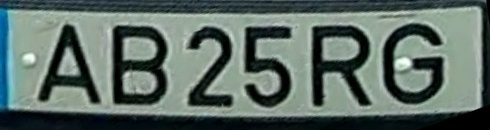2: (182, 23, 236, 110)
5: (240, 22, 295, 110)
A: (31, 22, 106, 106)
B: (109, 22, 171, 108)
G: (380, 19, 447, 108)
R: (309, 21, 374, 108)
